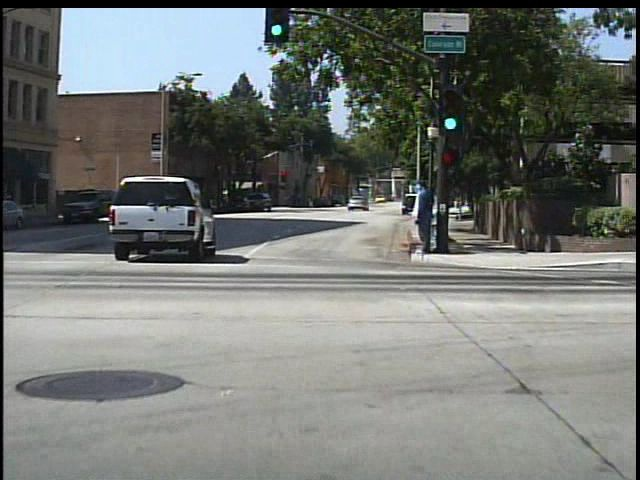person: (415, 179, 439, 257), (409, 184, 431, 259), (305, 193, 317, 209)
